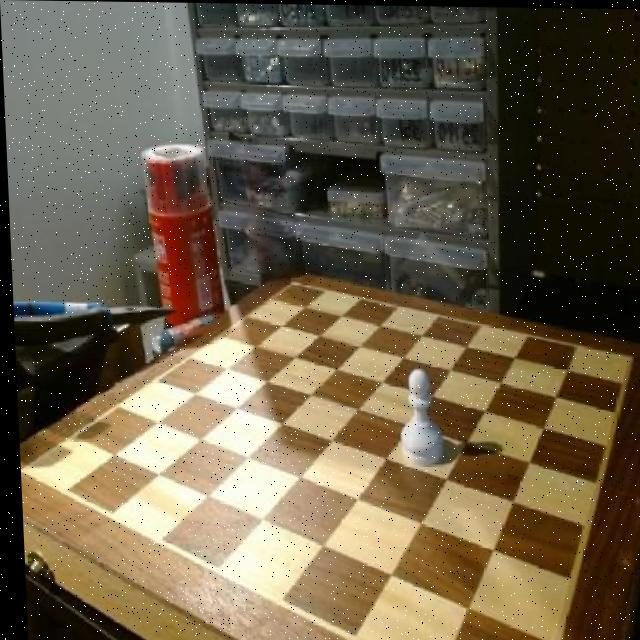white-knight: (388, 368, 447, 467)
